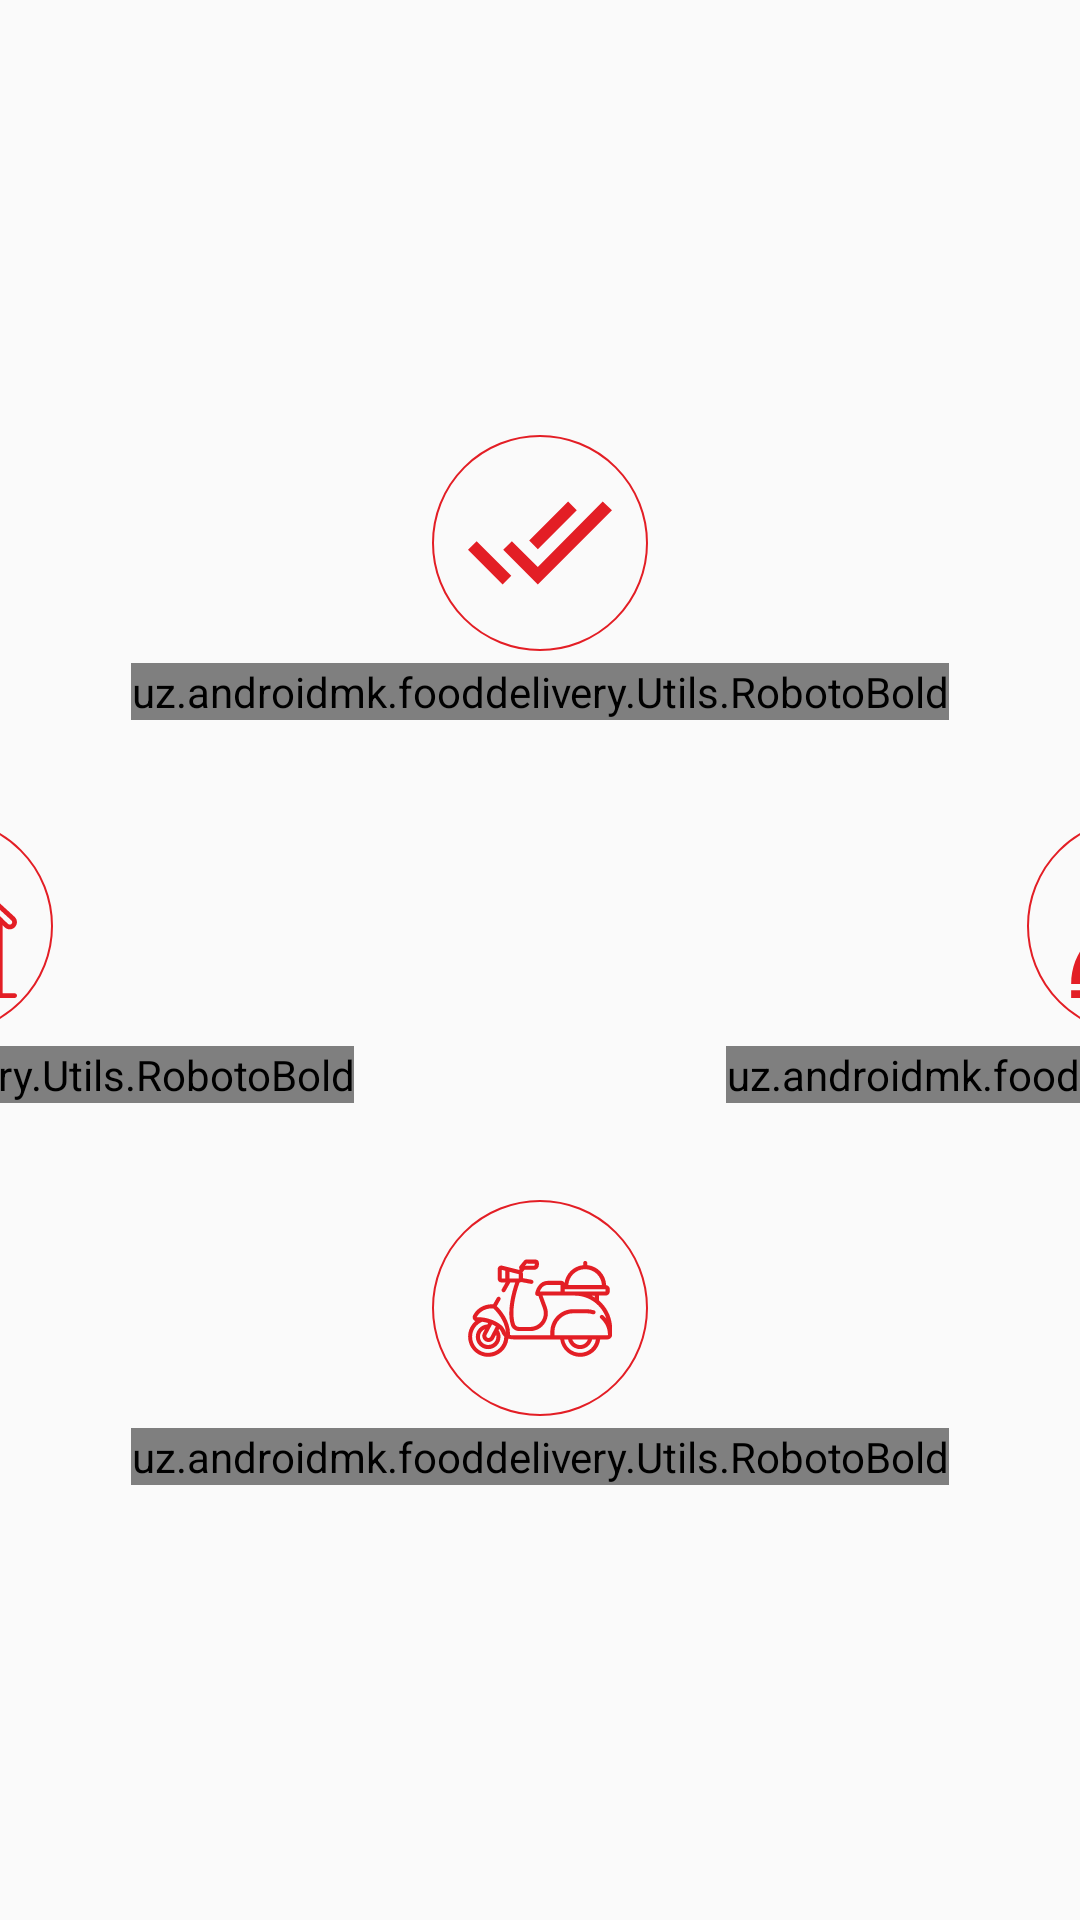

Icons on this 1080px x 1920px Android screen, each with the point to tap as (x=x, y=y):
double tick: (x=540, y=543)
